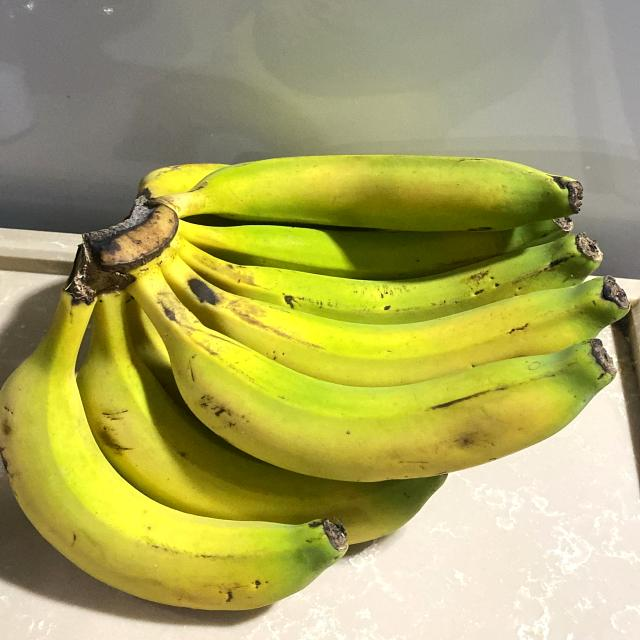banana: (0, 123, 640, 621), (120, 223, 624, 485)
